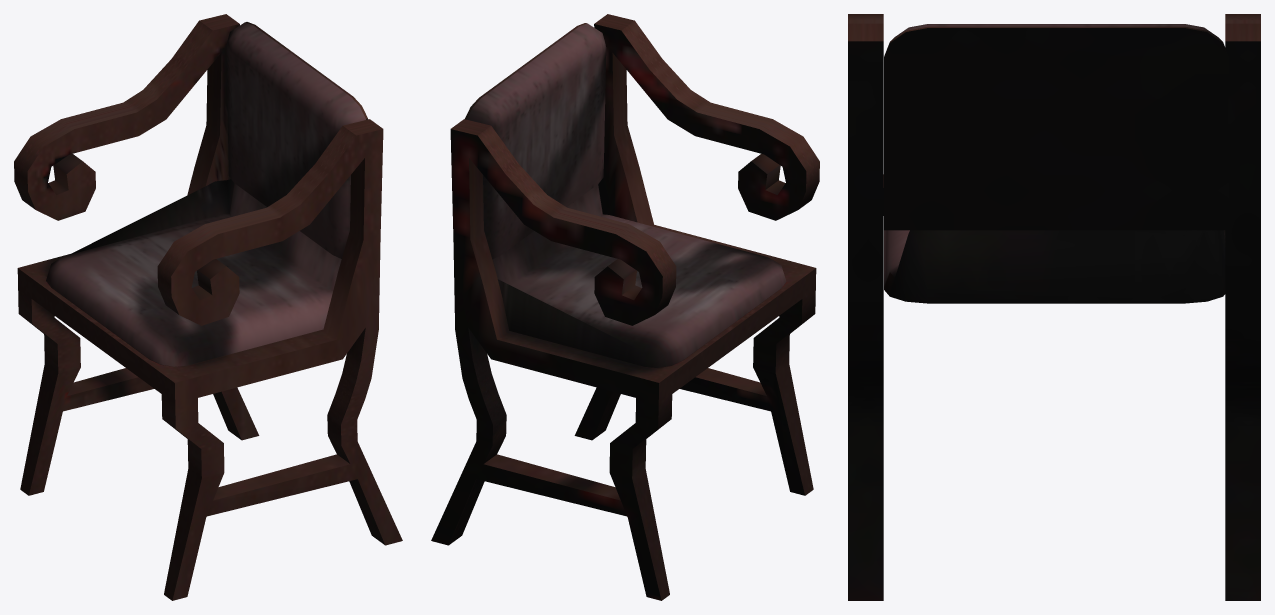
File: ChairOnly.FBX
The picture shows the model from 3 angles, left to right: view 1: azimuth 30°, elevation 25°; view 2: azimuth 150°, elevation 25°; view 3: azimuth 270°, elevation 25°; orthographic projection. The views are drawn at different scales.
Parts seen in each view (by area): view 1: BarberChairLoPoly; view 2: BarberChairLoPoly; view 3: BarberChairLoPoly.
Part boxes in pixels (bbox=[...]): BarberChairLoPoly: bbox=[14, 14, 402, 600]; BarberChairLoPoly: bbox=[431, 14, 819, 600]; BarberChairLoPoly: bbox=[848, 14, 1260, 600].
Bounding box in the file's own units: 88.97 × 159 × 104.
